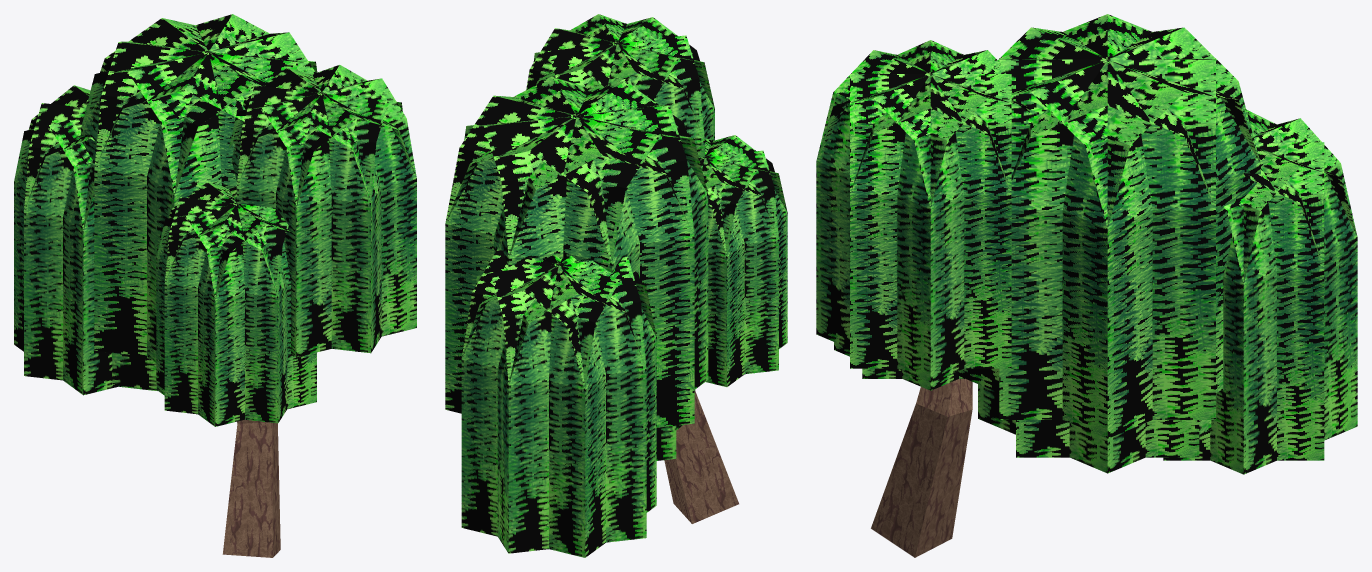
The model's file is treeC.fbx.
The picture shows the model from 3 angles, left to right: view 1: azimuth 30°, elevation 25°; view 2: azimuth 150°, elevation 25°; view 3: azimuth 270°, elevation 25°; orthographic projection. The views are drawn at different scales.
Visible parts, largest first — view 1: Branch 3; view 2: Branch 3; view 3: Branch 3.
Boxes of the visible parts, box(x1,y1,x2,y2) form: Branch 3: box(14, 14, 416, 557); Branch 3: box(445, 14, 787, 557); Branch 3: box(816, 14, 1357, 557).
Bounding box in the file's own units: 716 × 1211 × 1162.
Materials: 21 (21 with a texture image).
